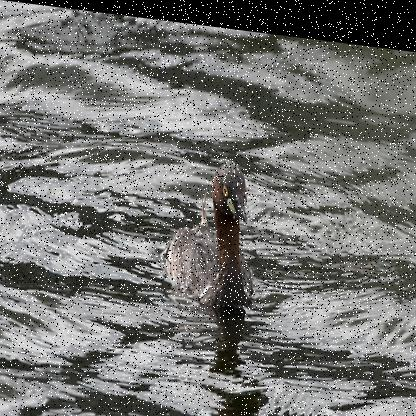Burung: (166, 147, 254, 307)
